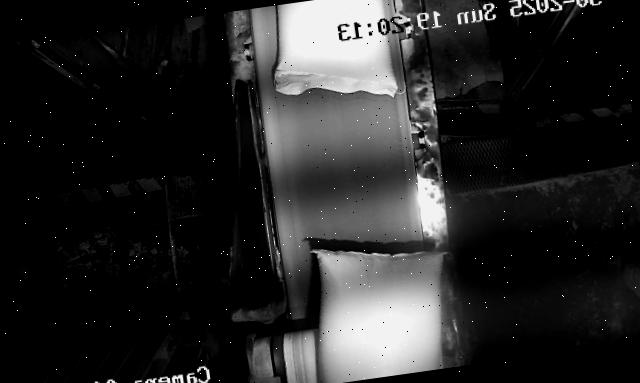bag: (283, 230, 459, 383), (261, 0, 398, 110)
